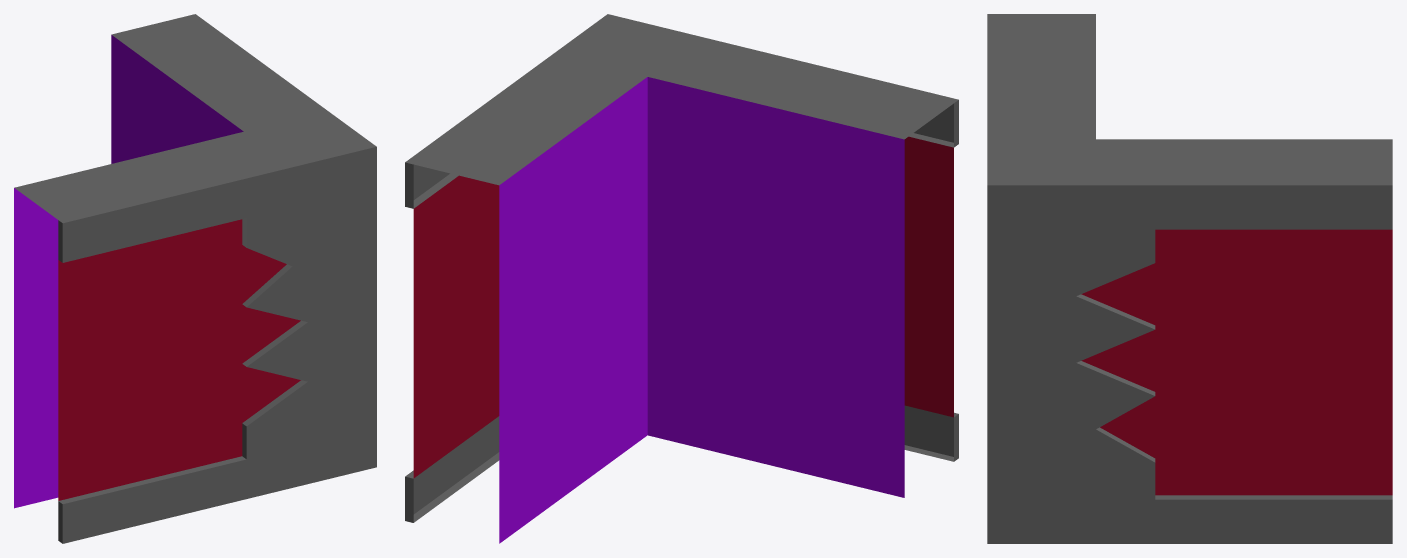
File: Wall_Corner_X_1x1.fbx
The picture shows the model from 3 angles, left to right: view 1: azimuth 30°, elevation 25°; view 2: azimuth 150°, elevation 25°; view 3: azimuth 270°, elevation 25°; orthographic projection. The views are drawn at different scales.
Parts seen in each view (by area): view 1: Wall_Corner_1x6; view 2: Wall_Corner_1x6; view 3: Wall_Corner_1x6.
Boxes of the visible parts, x1,y1,x2,y2 form: Wall_Corner_1x6: (14,14,376,543); Wall_Corner_1x6: (405,14,958,543); Wall_Corner_1x6: (987,14,1392,543).
Size of the model in its own units: 1.02 by 1 by 1.02.
